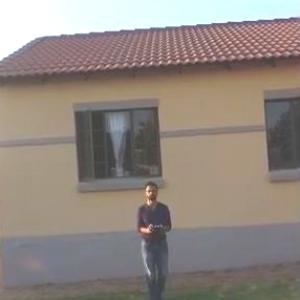follow: (134, 175, 178, 299)
